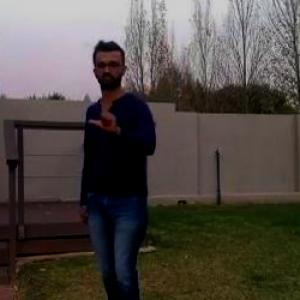land_hand: (86, 95, 122, 131)
